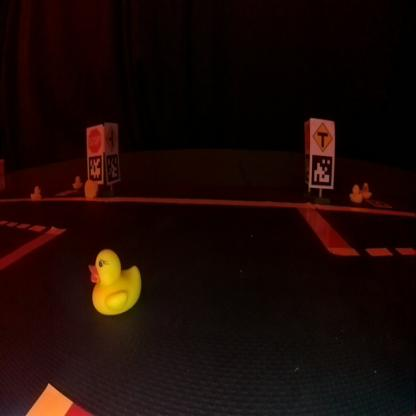Duckie: (89, 248, 141, 314), (84, 180, 97, 198), (349, 184, 361, 202), (360, 184, 371, 198), (31, 186, 41, 200)
Intersection sign: (314, 121, 332, 152), (105, 126, 116, 150)
QR code: (311, 154, 330, 185), (106, 154, 118, 181), (88, 154, 100, 180), (304, 153, 310, 182), (55, 189, 76, 197), (368, 201, 391, 208)
Stop sign: (87, 128, 100, 152)
